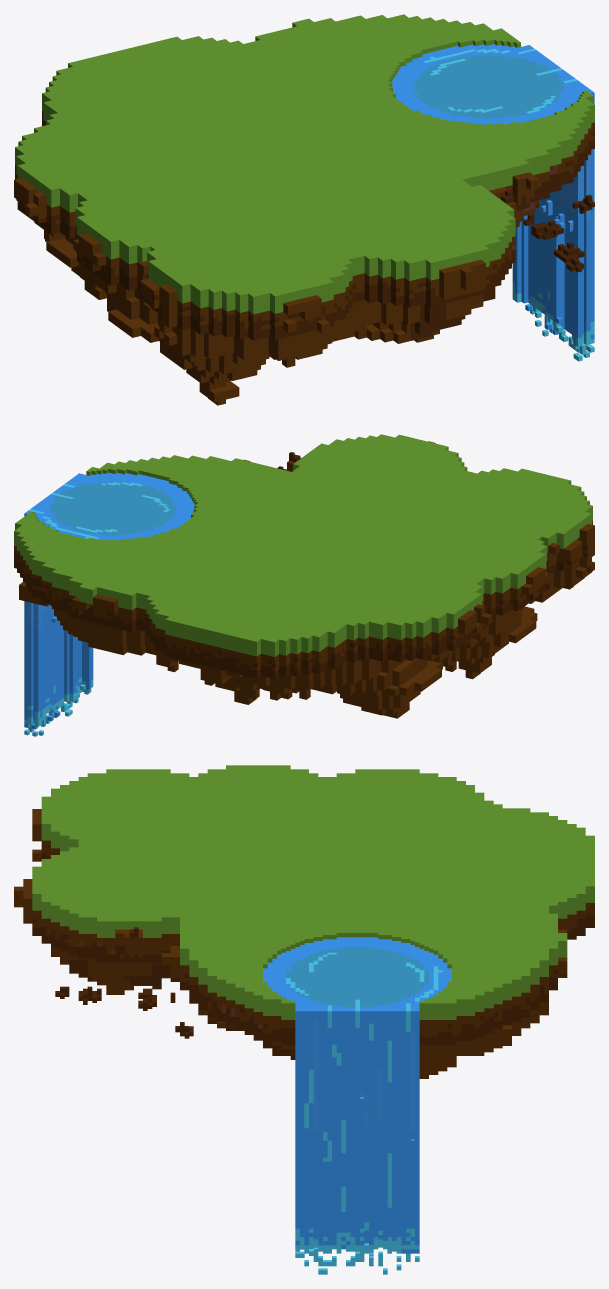
The model's file is level 1.obj.
3 renders of one model, top to bottom at view 1: azimuth 30°, elevation 25°; view 2: azimuth 150°, elevation 25°; view 3: azimuth 270°, elevation 25°, orthographic. The views are drawn at different scales.
Bounding box in the file's own units: 126 × 64 × 126.
1 material, 1 textured.
